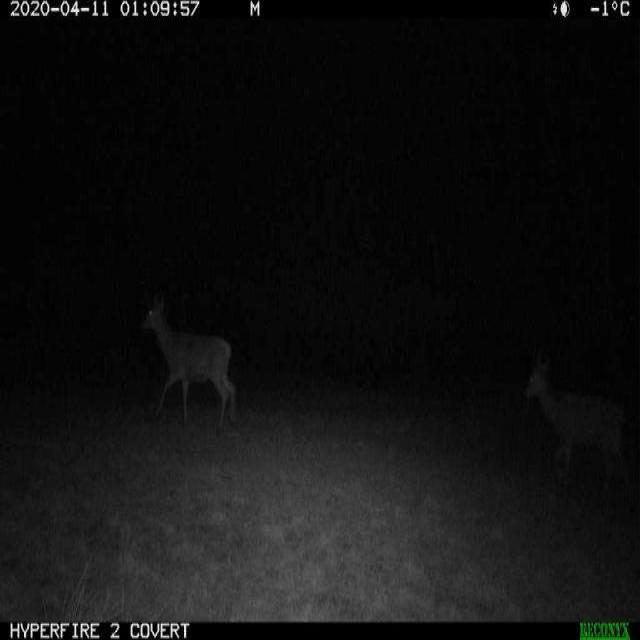deer: (518, 344, 626, 524), (130, 281, 237, 436)
